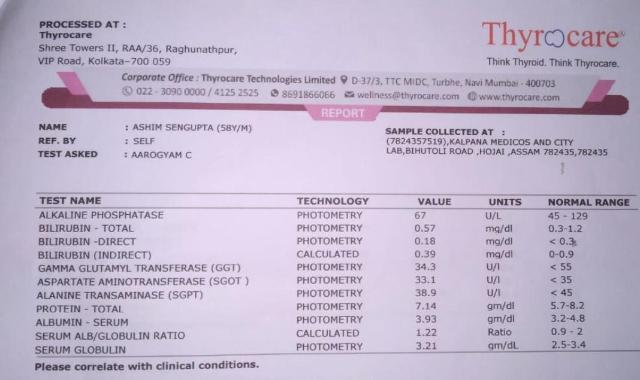Name: (129, 119, 255, 136)
Ref_By: (129, 137, 165, 146)
Reference_Range: (544, 209, 617, 352)
Technology: (290, 209, 374, 353)
Test_Asked: (127, 149, 198, 162)
Test_Name: (34, 208, 259, 359)
Unit: (480, 210, 531, 353)
Value: (407, 210, 460, 353)
